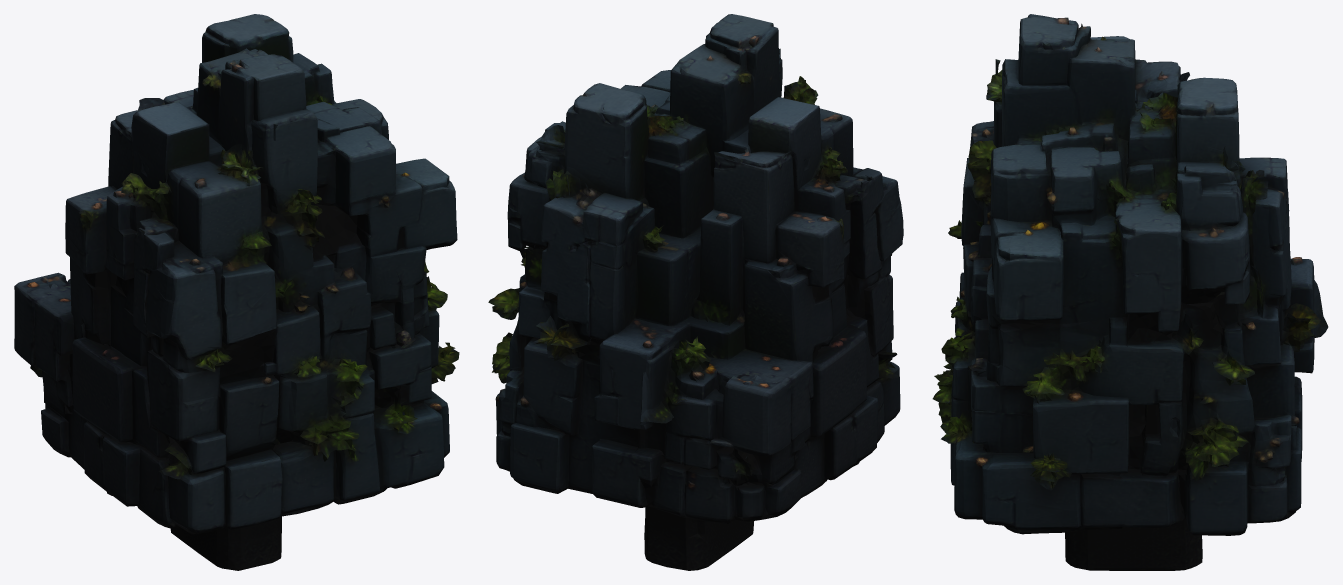
Rendered from roca_arrecife.glb.
3 views of the same model, side by side, from view 1: azimuth 30°, elevation 25°; view 2: azimuth 150°, elevation 25°; view 3: azimuth 270°, elevation 25° (orthographic). The views are drawn at different scales.
Visible parts, largest first — view 1: world; view 2: world; view 3: world.
Boxes of the visible parts, x1,y1,x2,y2 form: world: (14,14,459,570); world: (488,14,903,570); world: (932,14,1328,570).
Bounding box in the file's own units: 0.6975 × 0.9999 × 0.6812.
Materials: 1 (1 with a texture image).
